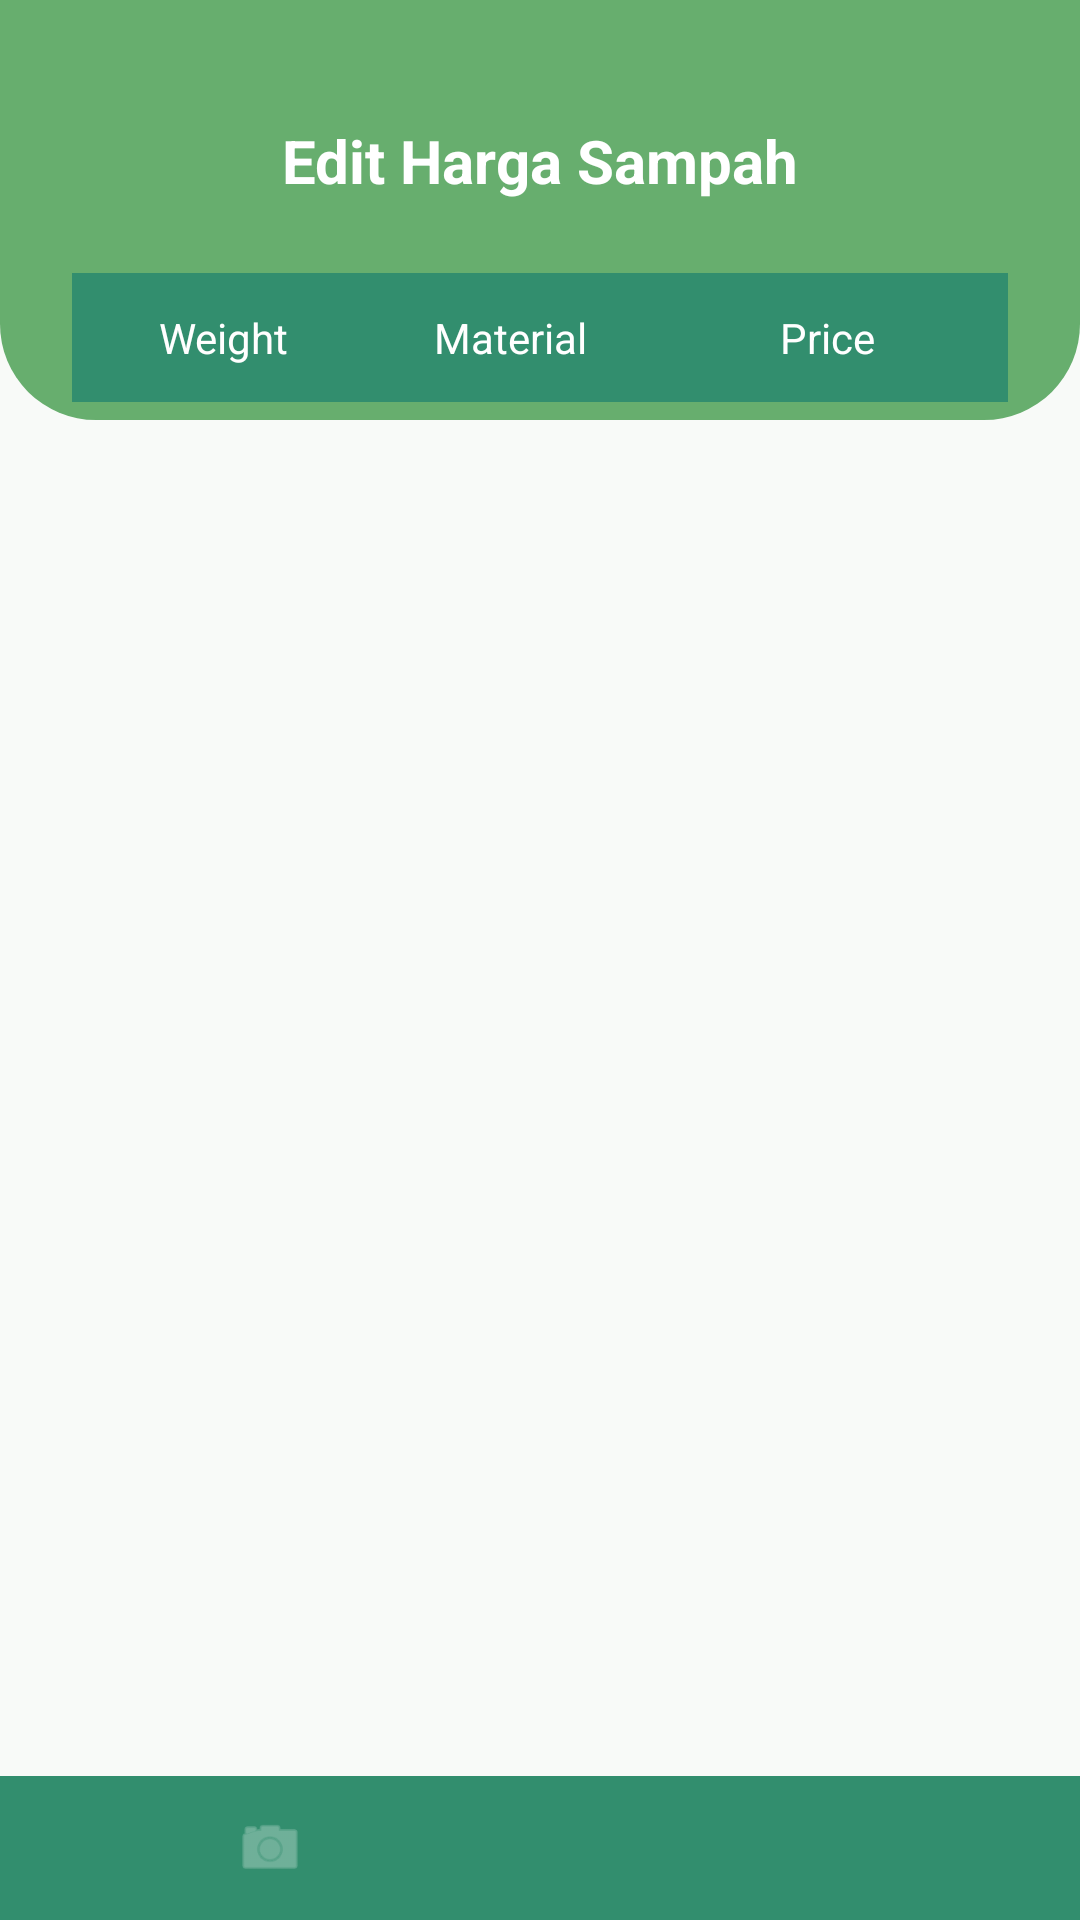

Named icons in this screenshot (1080x1920) and their centers, (x,y):
camera: (270,1847)
